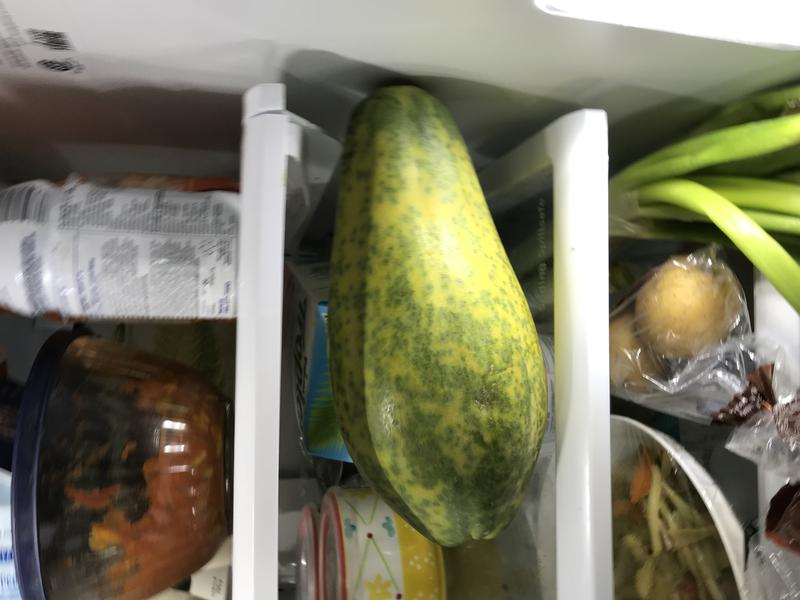papaya: (320, 71, 554, 556)
